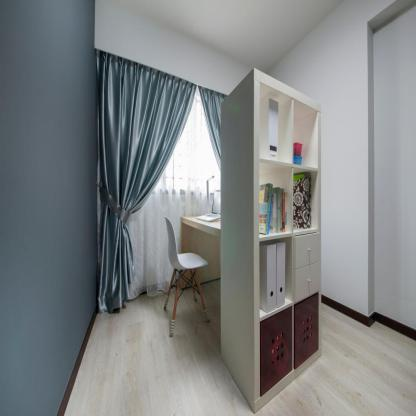lamp: (219, 66, 323, 416)
